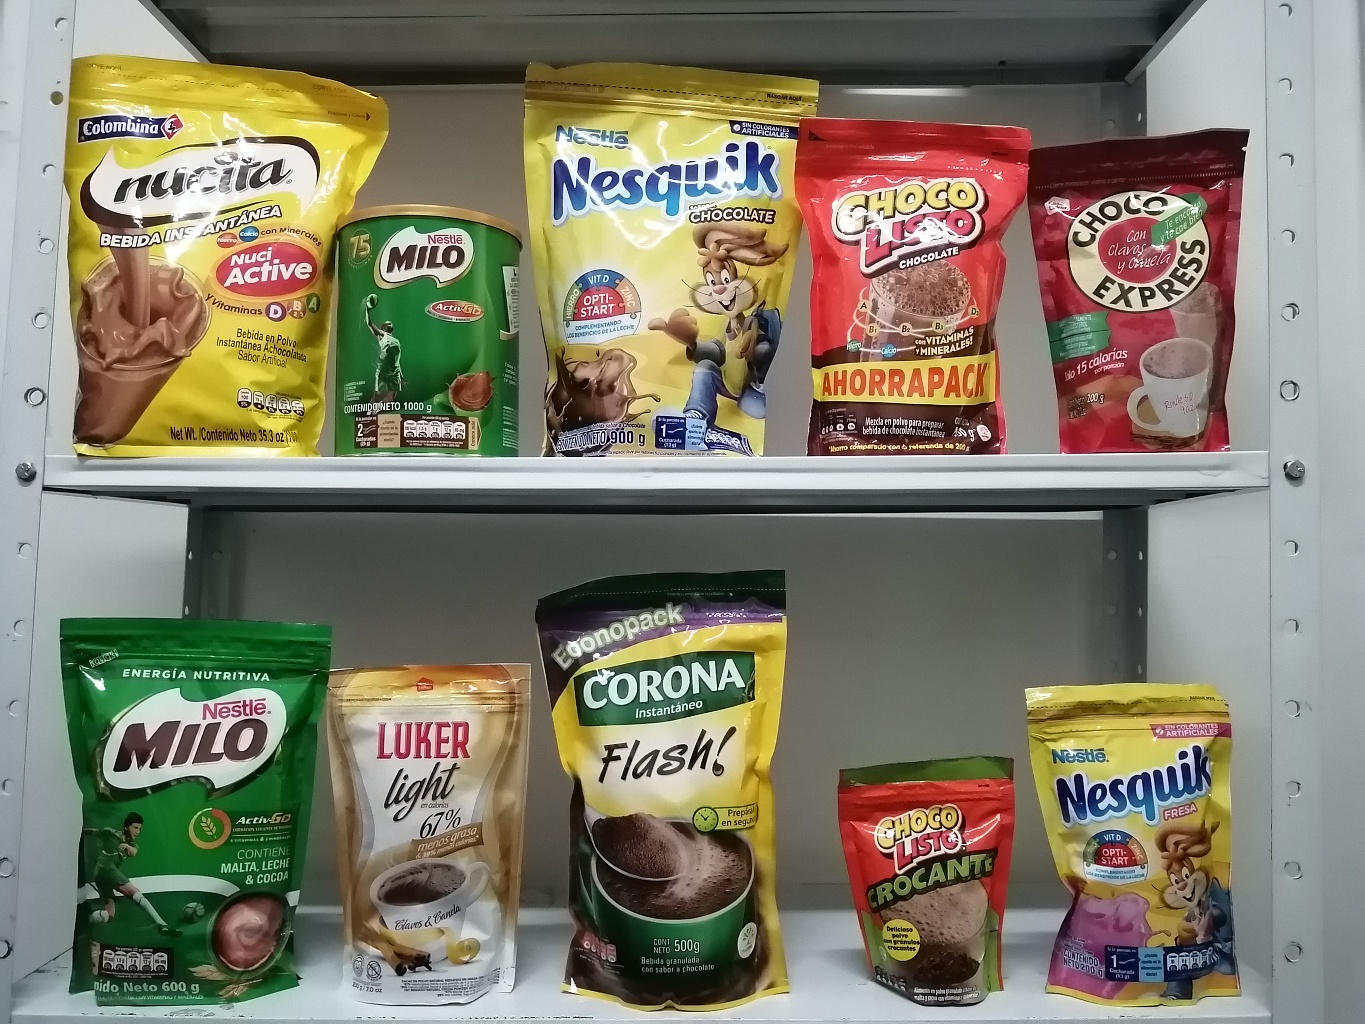COL0170102DYP10000: (835, 733, 1030, 1015)
COL0170103DYP40000: (790, 94, 1050, 472)
COL0170305DYP20000: (1006, 662, 1286, 1016)
